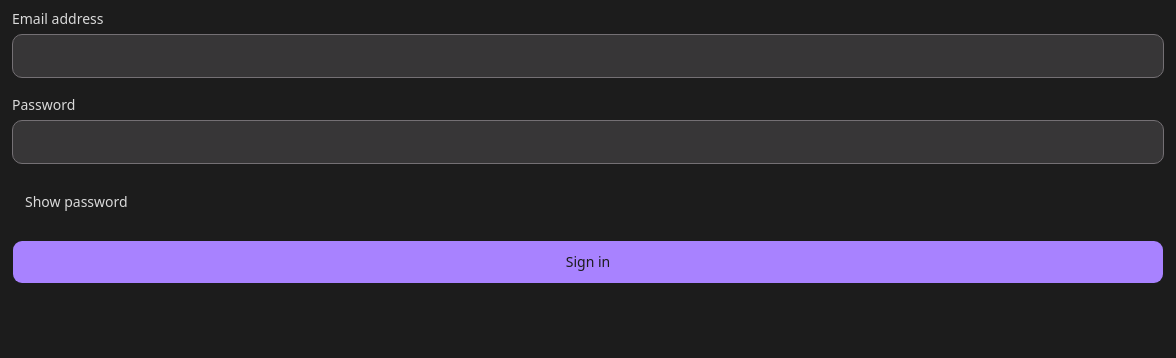
Test: LoginForm › submits the entered email and password then confirms a successful sign-in
In the field labelled "Email address": (588, 56) [12, 34, 1164, 78], type "  manager@bubbletea.test  "
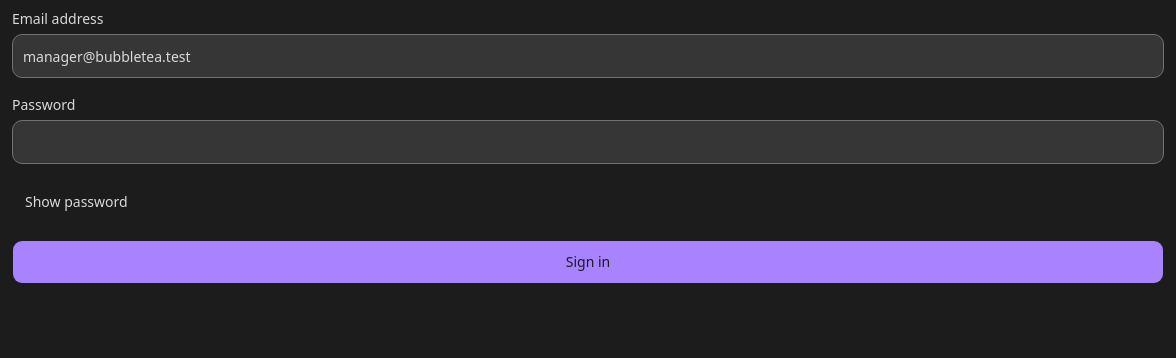
In the password field labelled "Password": (588, 142) [12, 120, 1164, 164], type "correct-horse-battery-staple"
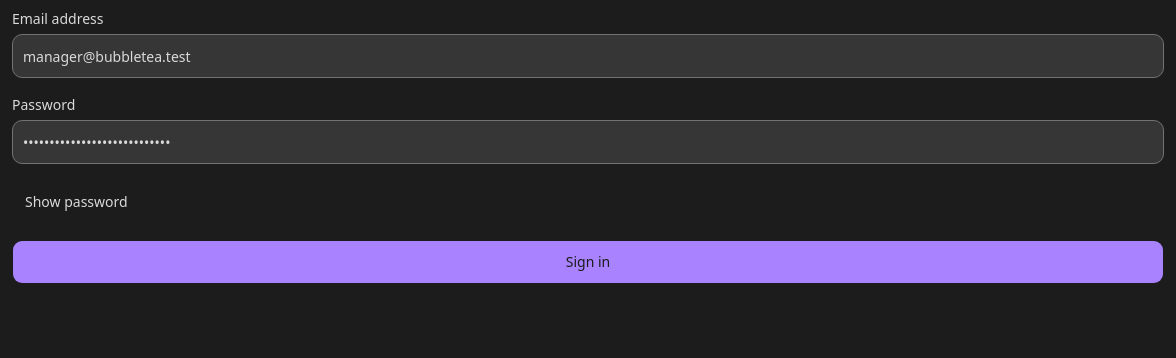
Click the button "Sign in": (588, 262) [12, 240, 1164, 284]
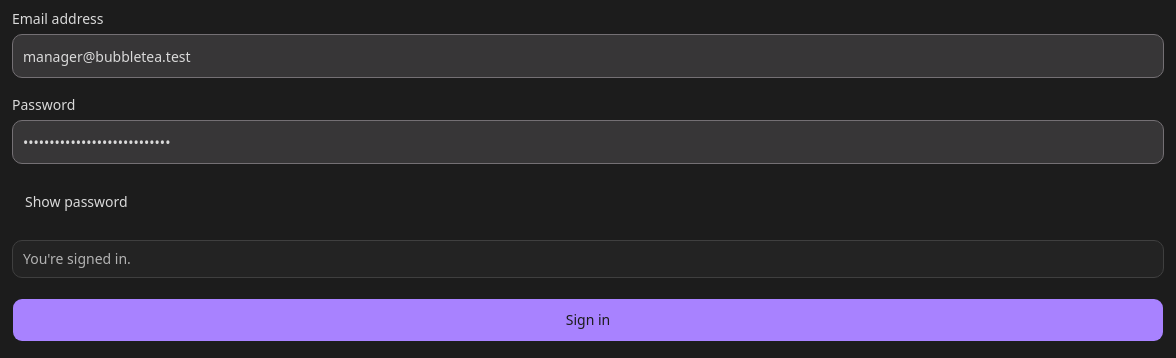
Expected: the text "You're signed in." is shown, [23, 249, 131, 268]
